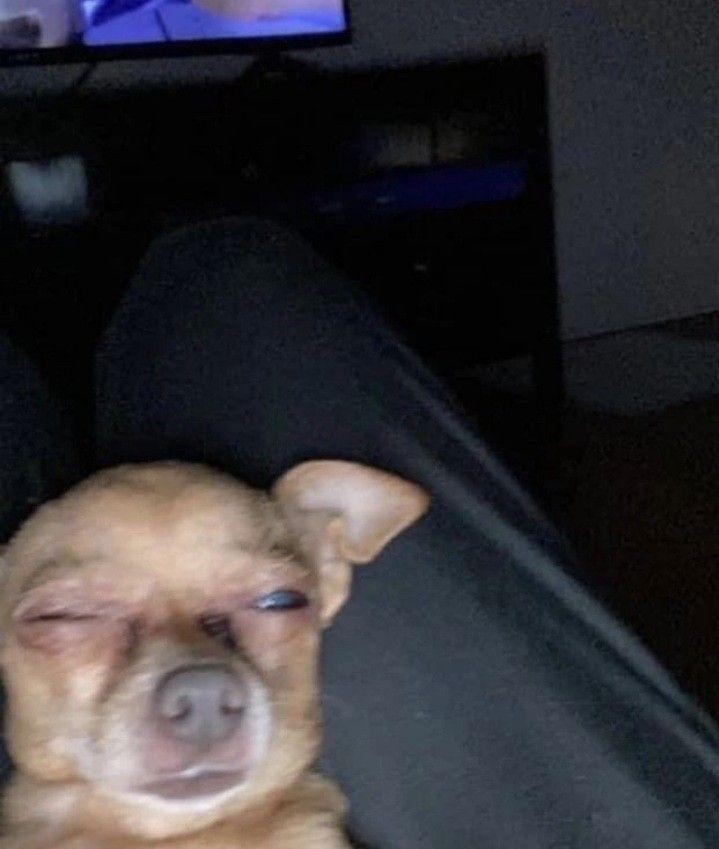puppy-dog: (0, 459, 431, 849)
